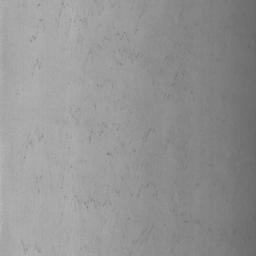Silk spot: (74, 195, 111, 210), (142, 128, 155, 142)
